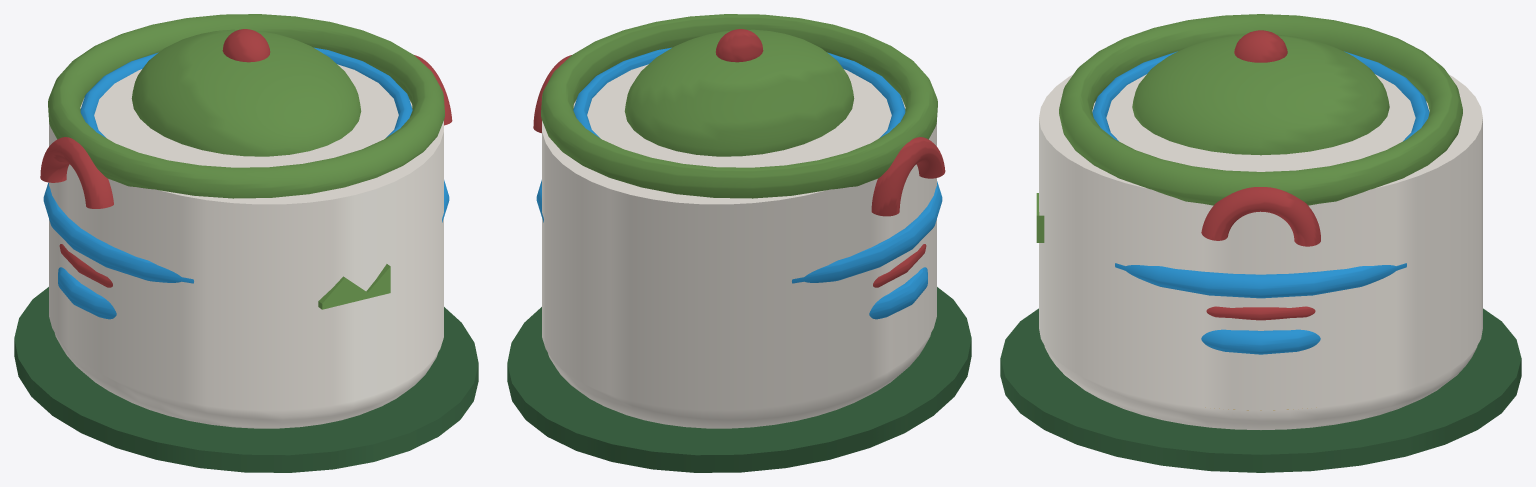
Rendered from 0649_四大发明图鉴_泥活字.glb.
The picture shows the model from 3 angles, left to right: view 1: azimuth 30°, elevation 25°; view 2: azimuth 150°, elevation 25°; view 3: azimuth 270°, elevation 25°; orthographic projection. The views are drawn at different scales.
Parts seen in each view (by area): view 1: card_0649; view 2: card_0649; view 3: card_0649.
Boxes of the visible parts, x1,y1,x2,y2 form: card_0649: (14,14,478,472); card_0649: (507,14,971,472); card_0649: (1000,14,1521,472).
Bounding box in the file's own units: 1.15 × 1 × 1.31.
